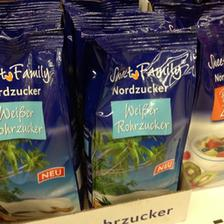Zucker: (84, 30, 196, 206), (0, 26, 80, 218)
